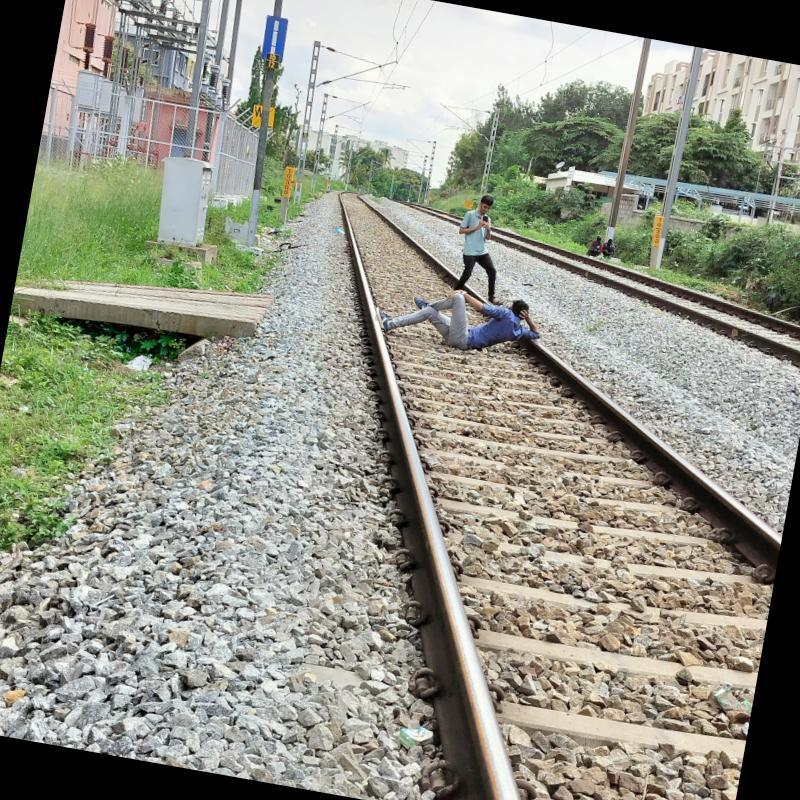sleeping: (369, 273, 562, 368)
